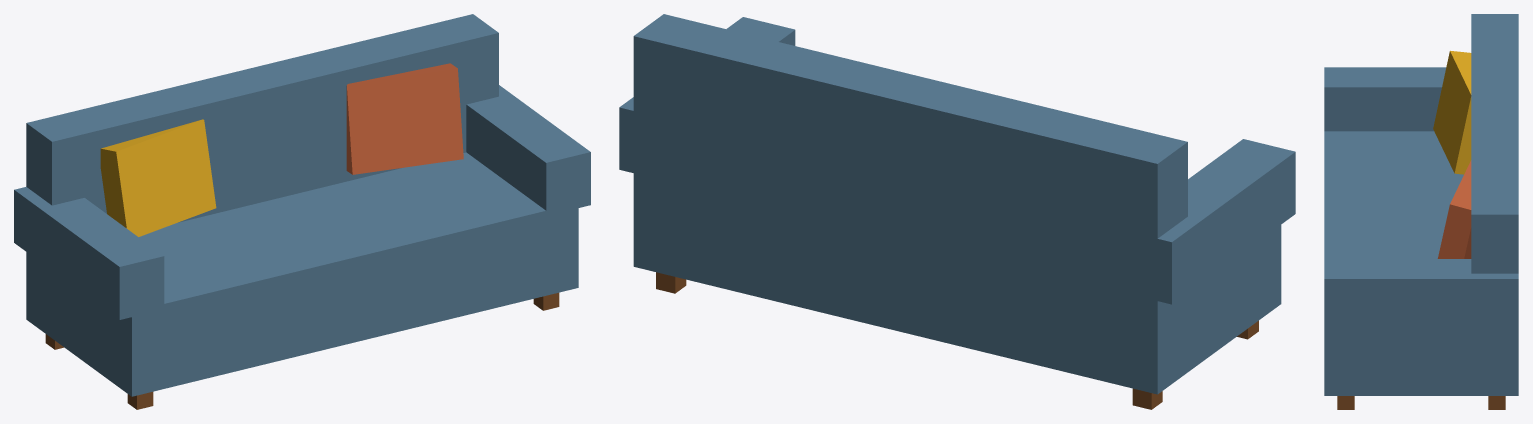
The model's file is sofa_modern.glb.
3 renders of one model, left to right at view 1: azimuth 30°, elevation 25°; view 2: azimuth 150°, elevation 25°; view 3: azimuth 270°, elevation 25°, orthographic. The views are drawn at different scales.
Parts seen in each view (by area): view 1: sofa_modern; view 2: sofa_modern; view 3: sofa_modern.
Part boxes in pixels (x1,y1,x2,y2): sofa_modern: [14, 14, 590, 409]; sofa_modern: [619, 14, 1295, 409]; sofa_modern: [1324, 14, 1518, 409].
Size of the model in its own units: 2.32 by 1.02 by 0.9.
